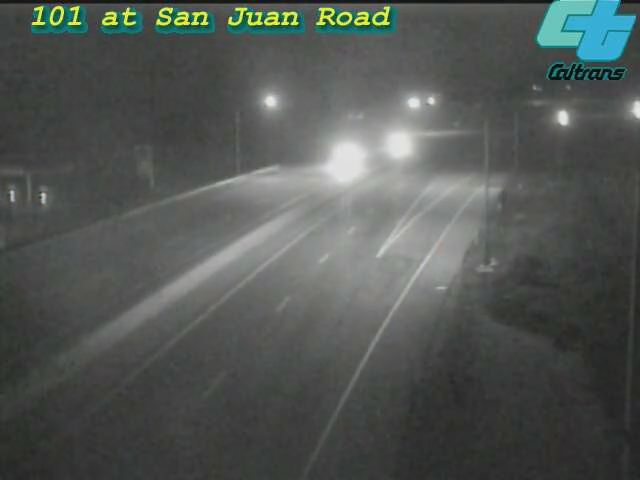vehicle: (319, 130, 369, 180), (370, 119, 420, 169), (539, 93, 589, 143), (609, 87, 640, 137)
